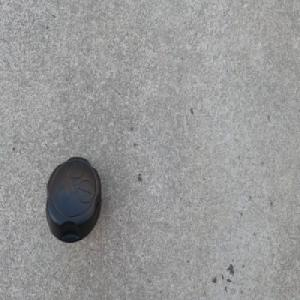FuelCap: (44, 155, 103, 245)
